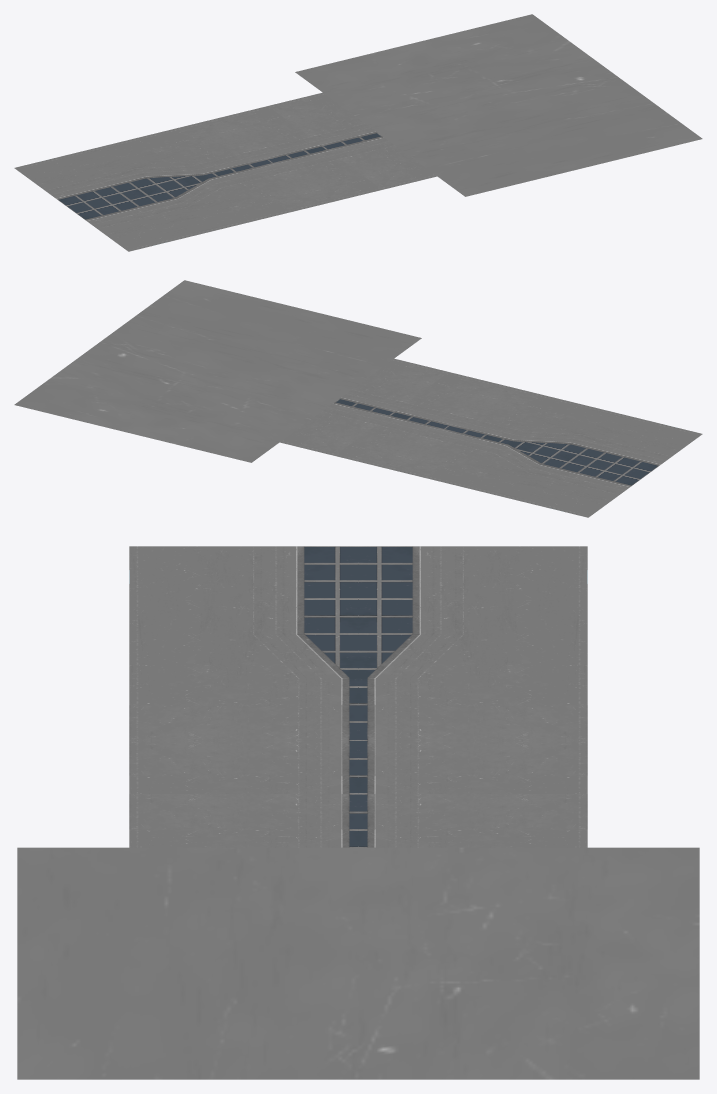
Rendered from Mesh_Zats_Floor.fbx.
3 renders of one model, top to bottom at view 1: azimuth 30°, elevation 25°; view 2: azimuth 150°, elevation 25°; view 3: azimuth 270°, elevation 25°, orthographic. The views are drawn at different scales.
Parts seen in each view (by area): view 1: Mesh_Zats_Floor_07, Mesh_Zats_Floor_01, Mesh_Zats_Floor_02, Mesh_Zats_Floor_06, Mesh_Zats_Floor_03, Mesh_Zats_Floor_04, Mesh_Zats_Floor_05; view 2: Mesh_Zats_Floor_07, Mesh_Zats_Floor_01, Mesh_Zats_Floor_02, Mesh_Zats_Floor_05, Mesh_Zats_Floor_03, Mesh_Zats_Floor_04, Mesh_Zats_Floor_06; view 3: Mesh_Zats_Floor_07, Mesh_Zats_Floor_01, Mesh_Zats_Floor_02, Mesh_Zats_Floor_03, Mesh_Zats_Floor_04, Mesh_Zats_Floor_05, Mesh_Zats_Floor_06.
Part boxes in pixels (box(x1,y1,x2,y2)): Mesh_Zats_Floor_07: box(295, 14, 702, 196); Mesh_Zats_Floor_01: box(72, 161, 326, 251); Mesh_Zats_Floor_02: box(14, 119, 269, 209); Mesh_Zats_Floor_06: box(325, 134, 436, 189); Mesh_Zats_Floor_03: box(213, 106, 324, 161); Mesh_Zats_Floor_04: box(270, 148, 381, 203); Mesh_Zats_Floor_05: box(268, 92, 379, 147); Mesh_Zats_Floor_07: box(14, 280, 421, 462); Mesh_Zats_Floor_01: box(447, 385, 702, 475); Mesh_Zats_Floor_02: box(390, 427, 644, 517); Mesh_Zats_Floor_05: box(280, 400, 391, 455); Mesh_Zats_Floor_03: box(335, 414, 446, 469); Mesh_Zats_Floor_04: box(392, 372, 503, 427); Mesh_Zats_Floor_06: box(337, 358, 448, 413); Mesh_Zats_Floor_07: box(17, 847, 699, 1079); Mesh_Zats_Floor_01: box(129, 546, 358, 740); Mesh_Zats_Floor_02: box(358, 546, 587, 740); Mesh_Zats_Floor_03: box(358, 740, 587, 793); Mesh_Zats_Floor_04: box(129, 740, 358, 793); Mesh_Zats_Floor_05: box(358, 794, 587, 847); Mesh_Zats_Floor_06: box(129, 794, 358, 847).
Bounding box in the file's own units: 319 × 2.67e-05 × 172.
